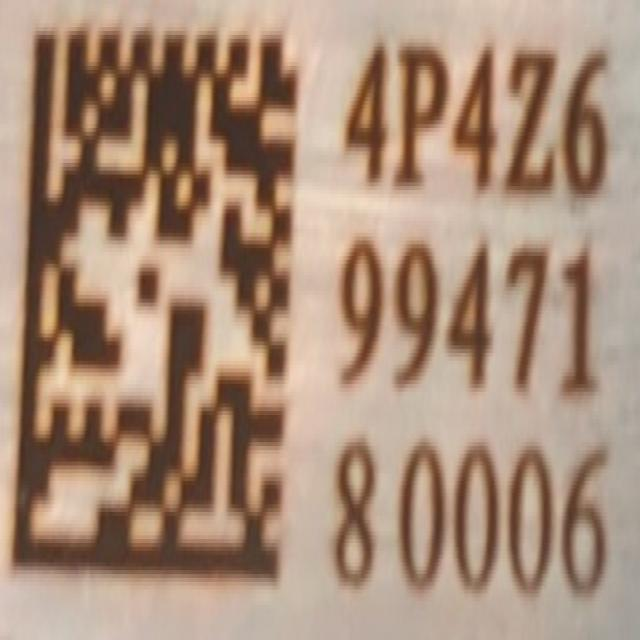dmc: (12, 31, 299, 582)
